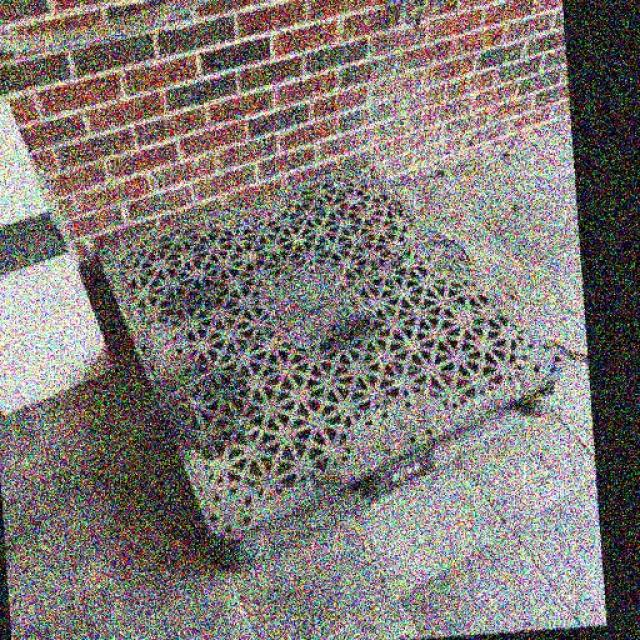non-igps: (86, 157, 576, 579)
